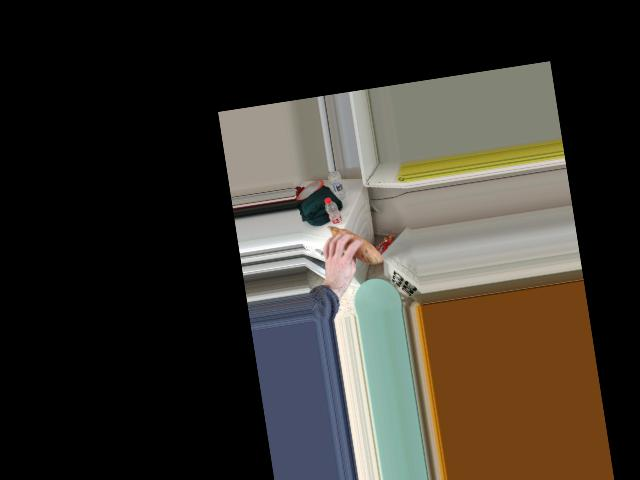sweet_potato: (324, 221, 380, 270)
